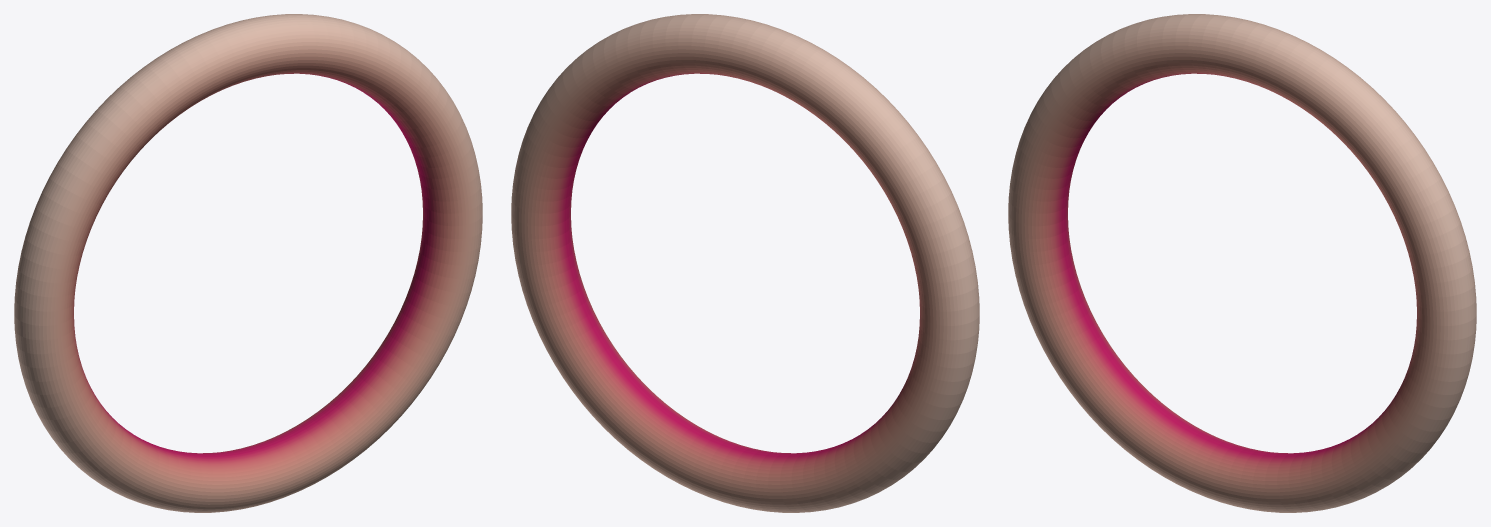
The picture shows the model from 3 angles, left to right: view 1: azimuth 30°, elevation 25°; view 2: azimuth 150°, elevation 25°; view 3: azimuth 330°, elevation 25°; orthographic projection.
Parts seen in each view (by area): view 1: world; view 2: world; view 3: world.
Boxes of the visible parts, left/top/right/bottom form: world: left=14, top=14, right=482, bottom=512; world: left=511, top=14, right=979, bottom=512; world: left=1008, top=14, right=1476, bottom=512.
Bounding box in the file's own units: 22.53 × 22.53 × 2.53.
